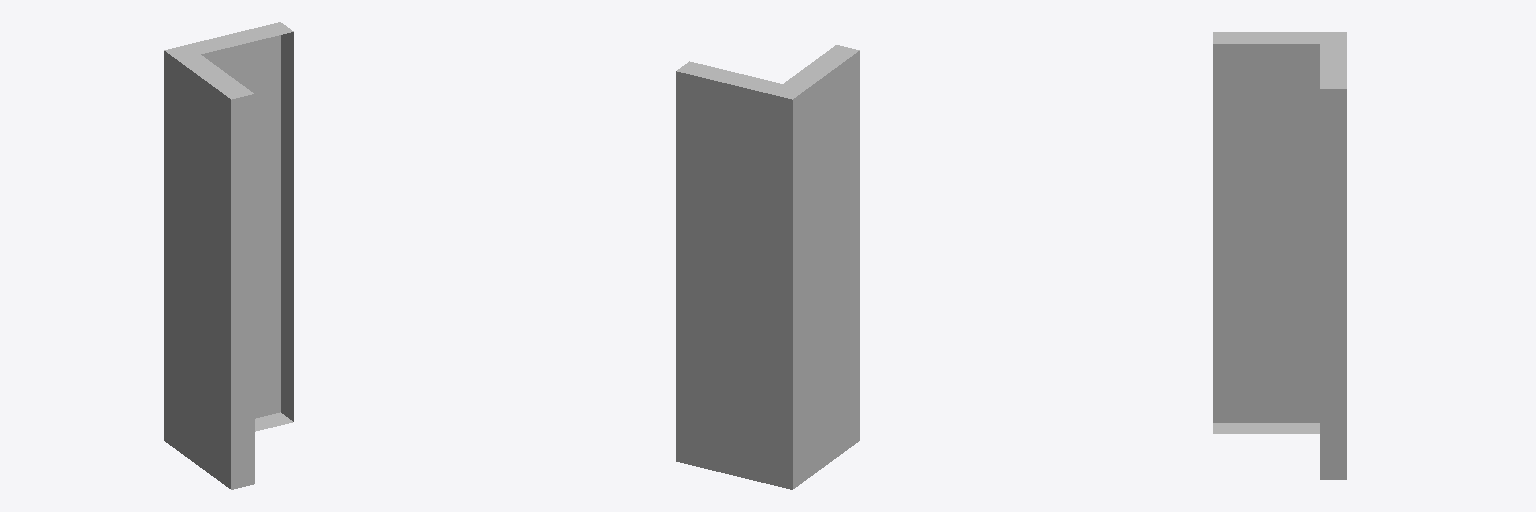
File: wall_modular_panelled_bakery_half_corner_inner_A.obj
The picture shows the model from 3 angles: view 1: azimuth 30°, elevation 25°; view 2: azimuth 150°, elevation 25°; view 3: azimuth 270°, elevation 25°; orthographic projection.
Visible parts, largest first — view 1: wall_modular_panelled_bakery_half_corner_inner_A; view 2: wall_modular_panelled_bakery_half_corner_inner_A; view 3: wall_modular_panelled_bakery_half_corner_inner_A.
Part boxes in pixels (bbox=[...]): wall_modular_panelled_bakery_half_corner_inner_A: bbox=[164, 22, 293, 489]; wall_modular_panelled_bakery_half_corner_inner_A: bbox=[676, 45, 859, 489]; wall_modular_panelled_bakery_half_corner_inner_A: bbox=[1213, 32, 1346, 479].
Size of the model in its own units: 1.25 by 4 by 1.25.